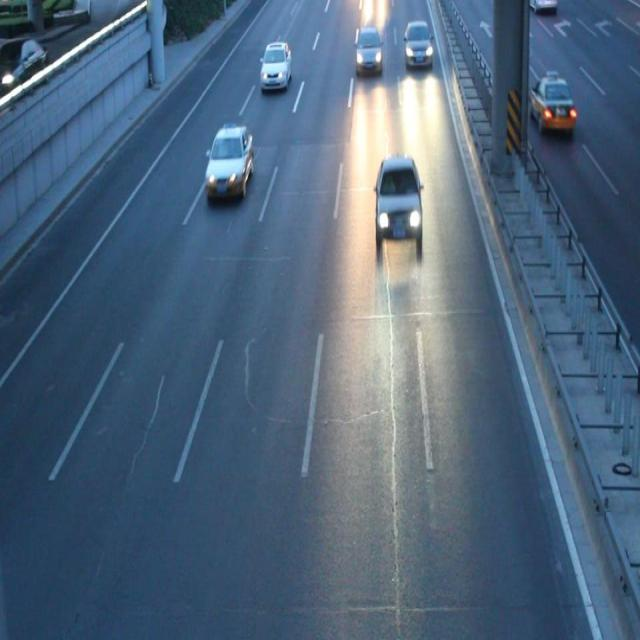car: (373, 156, 423, 246), (205, 123, 253, 200), (260, 40, 291, 90), (402, 21, 431, 68), (354, 28, 382, 74)
